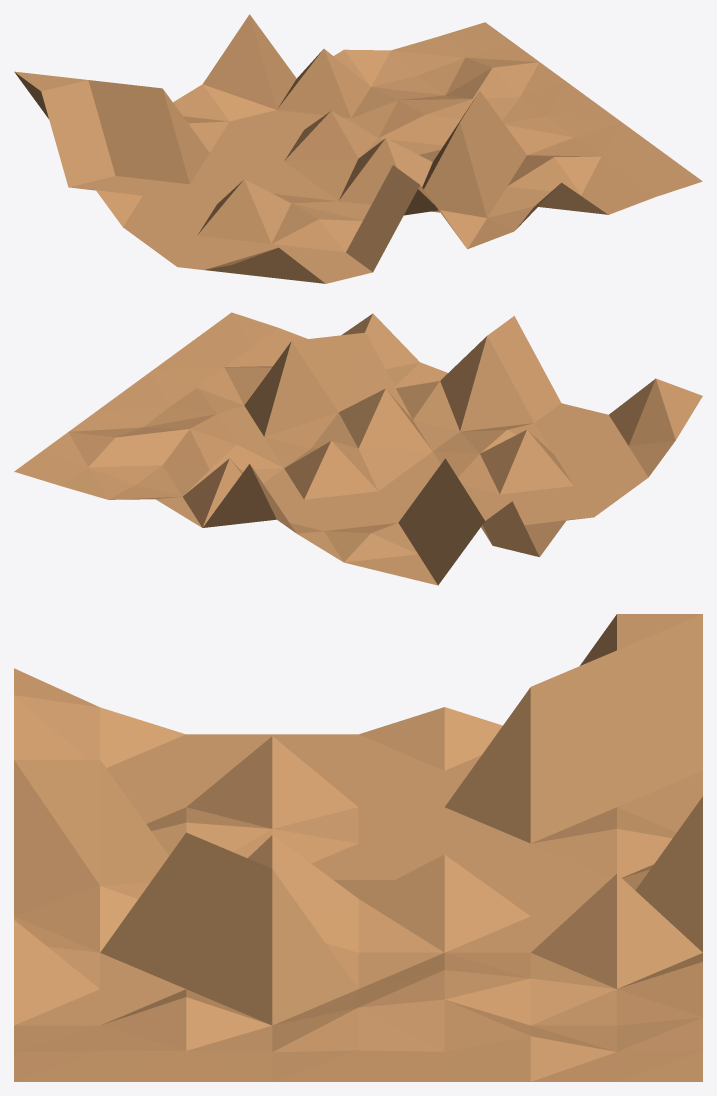
The model's file is mountains_3.dae.
3 renders of one model, top to bottom at view 1: azimuth 30°, elevation 25°; view 2: azimuth 150°, elevation 25°; view 3: azimuth 270°, elevation 25°, orthographic. The views are drawn at different scales.
Parts seen in each view (by area): view 1: Landscape_003; view 2: Landscape_003; view 3: Landscape_003.
Boxes of the visible parts, x1,y1,x2,y2 form: Landscape_003: [14, 14, 702, 283]; Landscape_003: [14, 312, 702, 585]; Landscape_003: [14, 614, 702, 1081].
Size of the model in its own units: 135 by 108 by 20.77.
